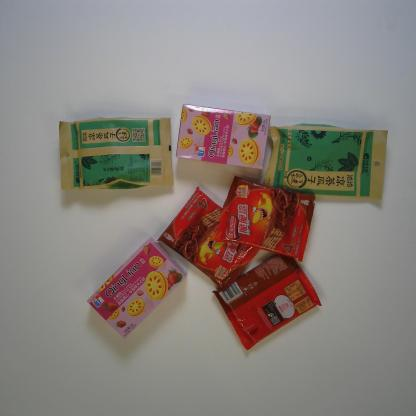Dessert: (157, 186, 262, 292), (212, 252, 322, 351), (87, 237, 186, 339), (213, 174, 316, 262), (175, 103, 272, 170)
Dried Food: (262, 123, 388, 201), (58, 117, 174, 191)
